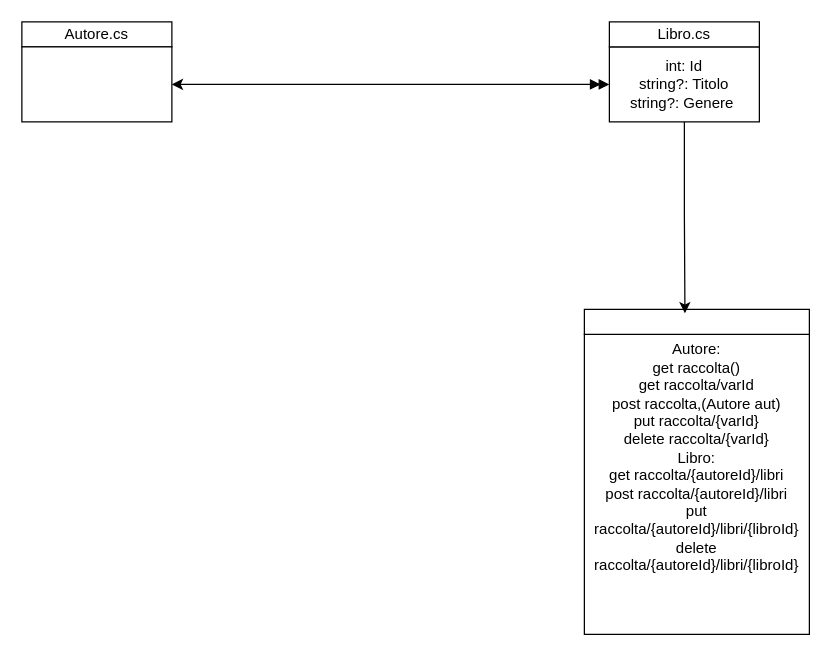
Some shapes in this 831 by 656 pixel diagram are drawn without their labels. The shapes that lost their labels are listed below. From the top down, each one's centre as x and y in pixels, then its label:
At point (96, 84): "int: Id string?: Nominativo List<Libro>?: Libri".
At point (696, 321): "Program.cs".
